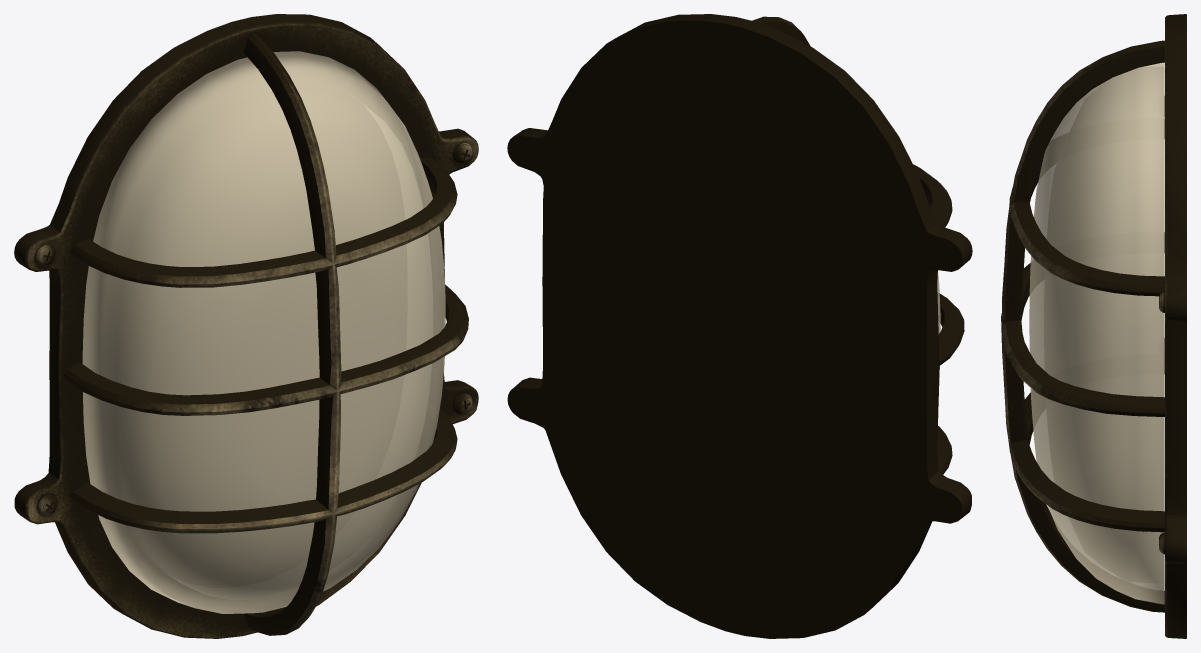
The model's file is ship_lamp.glb.
3 views of the same model, side by side, from view 1: azimuth 30°, elevation 25°; view 2: azimuth 150°, elevation 25°; view 3: azimuth 270°, elevation 25° (orthographic). The views are drawn at different scales.
Parts seen in each view (by area): view 1: Glass_low_1, Body_high_2, Screws_high_0; view 2: Body_high_2; view 3: Glass_low_1, Body_high_2.
Part boxes in pixels (x1,y1,x2,y2): Glass_low_1: (82,51,445,613); Body_high_2: (14,14,478,638); Screws_high_0: (35,142,472,515); Body_high_2: (507,14,972,638); Glass_low_1: (1029,62,1164,604); Body_high_2: (1001,14,1186,638).
Size of the model in its own units: 0.2186 by 0.2787 by 0.0804.
3 materials, 3 textured.
